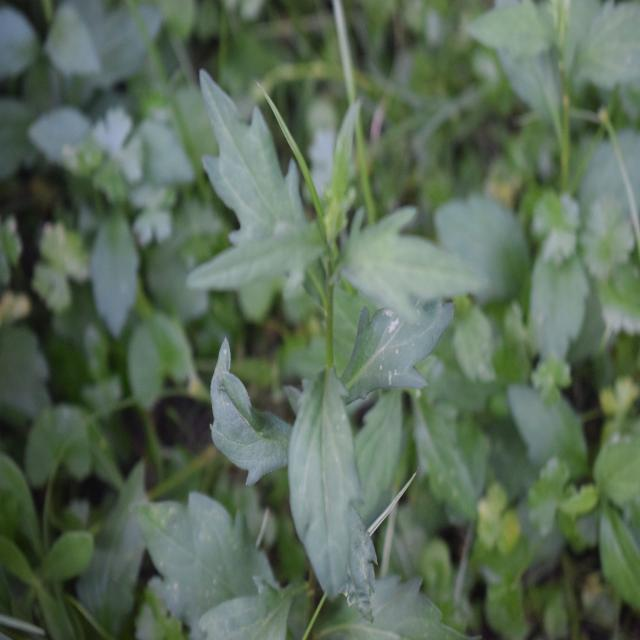Indian aster: (182, 67, 424, 576)
